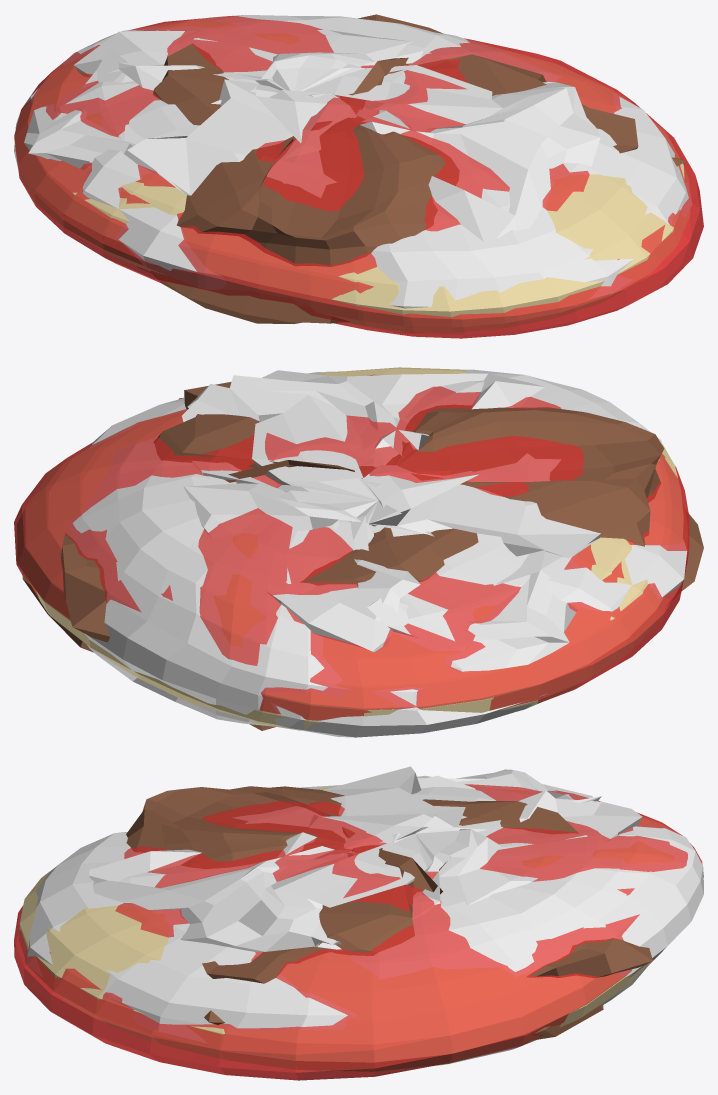
File: rawChicken_v2_SauceCheeseFinnaBakeThisBoi.fbx
The picture shows the model from 3 angles, top to bottom: view 1: azimuth 30°, elevation 25°; view 2: azimuth 150°, elevation 25°; view 3: azimuth 270°, elevation 25°; orthographic projection. The views are drawn at different scales.
Parts seen in each view (by area): view 1: S A U C E, cheesenbasil, flour, Sphere, flour.001; view 2: S A U C E, flour, cheesenbasil, flour.001, Sphere; view 3: S A U C E, flour, Sphere, cheesenbasil, flour.001.
Boxes of the visible parts, <box> form: S A U C E: <box>14,16,703,338</box>; cheesenbasil: <box>24,30,600,241</box>; flour: <box>14,15,691,332</box>; Sphere: <box>14,19,690,332</box>; flour.001: <box>143,14,686,323</box>; S A U C E: <box>14,374,689,720</box>; flour: <box>68,369,687,737</box>; cheesenbasil: <box>182,370,600,672</box>; flour.001: <box>22,382,703,730</box>; Sphere: <box>17,367,683,730</box>; S A U C E: <box>14,784,703,1080</box>; flour: <box>24,776,703,1070</box>; Sphere: <box>19,786,703,1071</box>; cheesenbasil: <box>89,766,642,952</box>; flour.001: <box>126,786,652,1040</box>.
Bounding box in the file's own units: 108 × 28.3 × 121.
